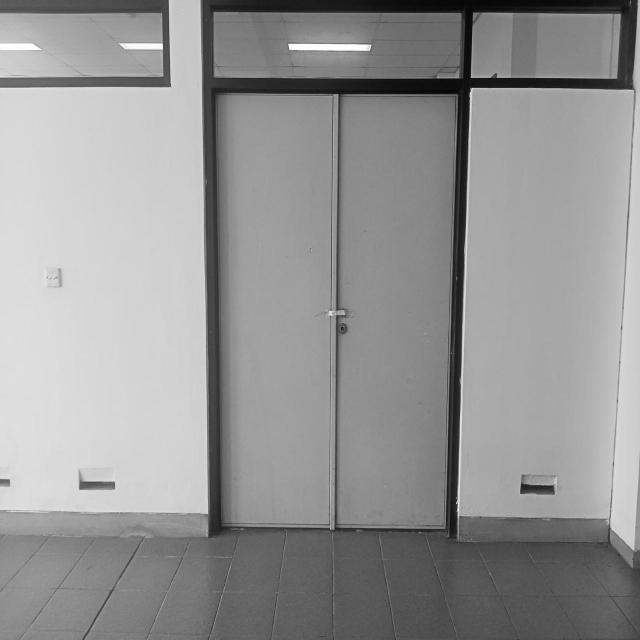door: (204, 79, 468, 532)
